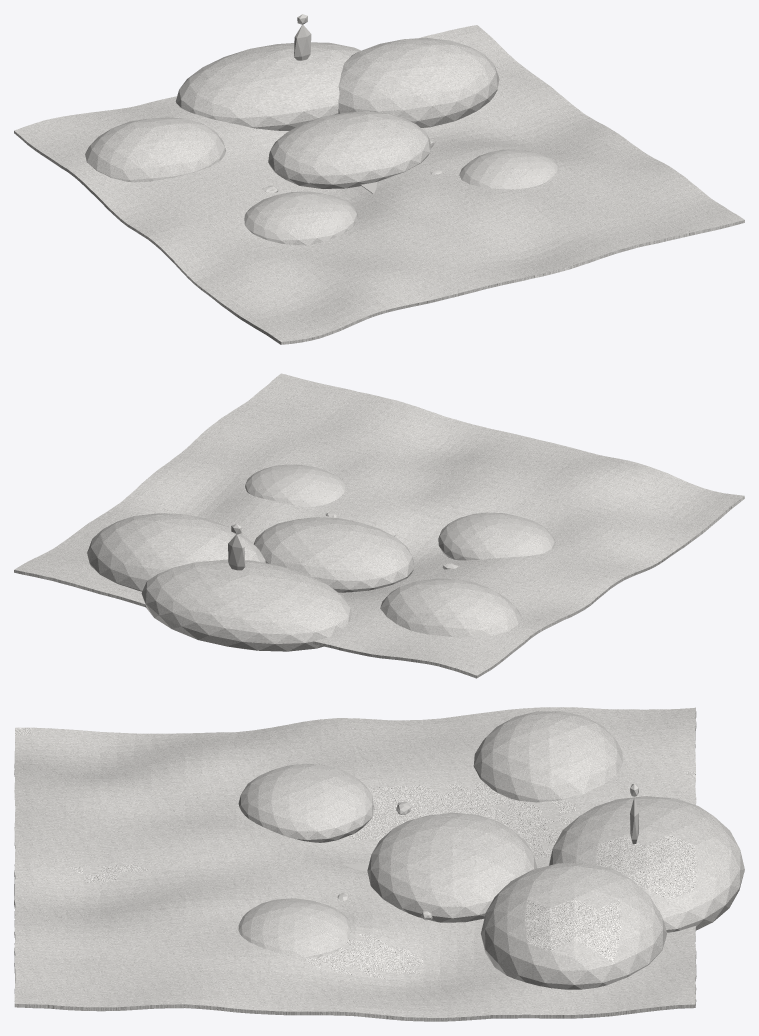
The model's file is bethlehem_valley_v2.glb.
The picture shows the model from 3 angles, top to bottom: view 1: azimuth 30°, elevation 25°; view 2: azimuth 150°, elevation 25°; view 3: azimuth 270°, elevation 25°; orthographic projection. The views are drawn at different scales.
Parts seen in each view (by area): view 1: BethlehemValley_v2_Outline; view 2: BethlehemValley_v2_Outline; view 3: BethlehemValley_v2_Outline.
Boxes of the visible parts, x1=… form: BethlehemValley_v2_Outline: x1=14, y1=14, x2=744, y2=344; BethlehemValley_v2_Outline: x1=14, y1=373, x2=744, y2=678; BethlehemValley_v2_Outline: x1=14, y1=707, x2=744, y2=1021.
Bounding box in the file's own units: 28.11 × 5.49 × 30.11.
Materials: 5 (5 with a texture image).
